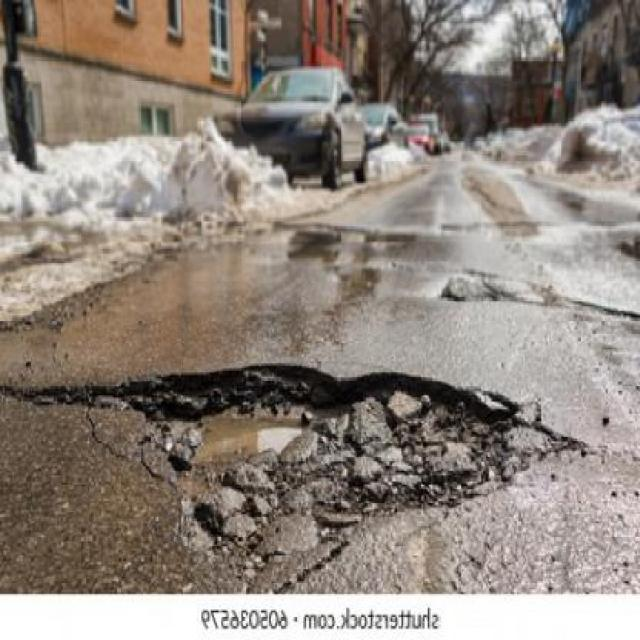Pothole: (0, 364, 584, 578)
